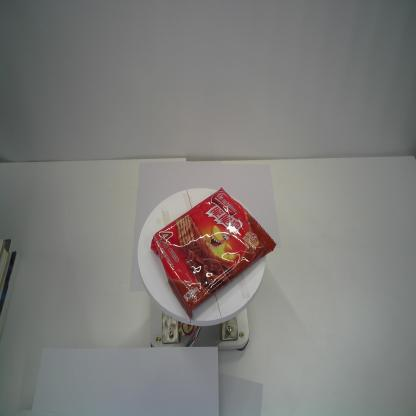Dessert: (150, 186, 277, 324)
